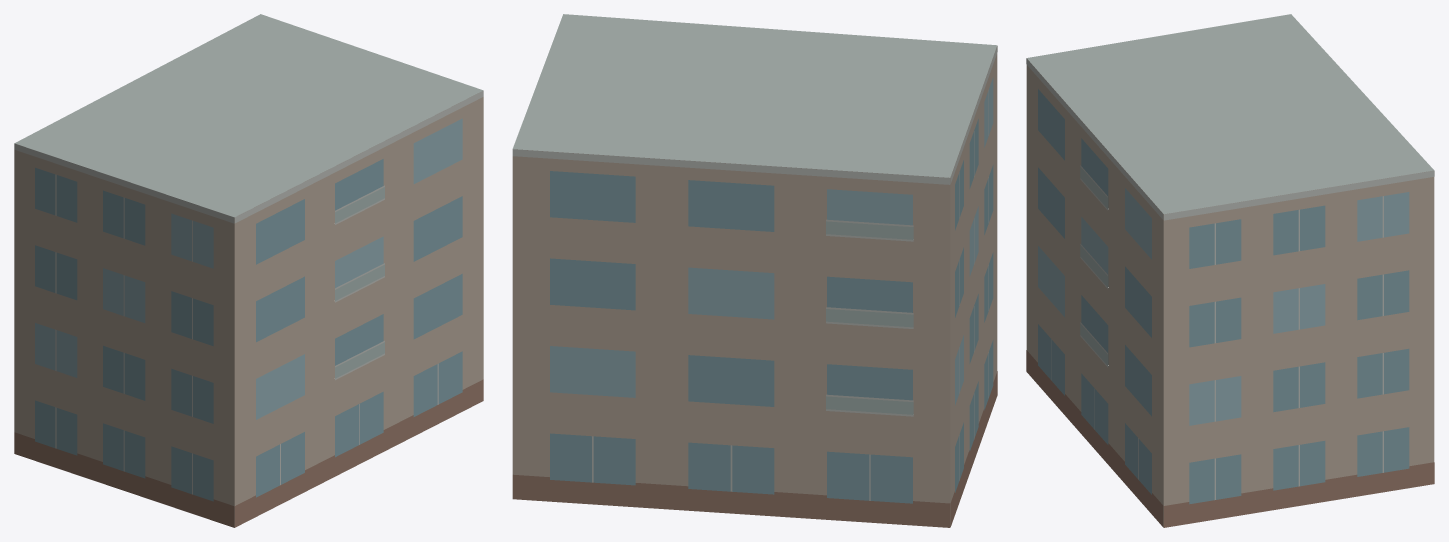
File: survey-upis-32858638.glb
The picture shows the model from 3 angles, left to right: view 1: azimuth 30°, elevation 25°; view 2: azimuth 150°, elevation 25°; view 3: azimuth 270°, elevation 25°; orthographic projection. The views are drawn at different scales.
Parts seen in each view (by area): view 1: survey-upis-32858638.tmp; view 2: survey-upis-32858638.tmp; view 3: survey-upis-32858638.tmp.
Part boxes in pixels (x1=…): survey-upis-32858638.tmp: x1=14, y1=14, x2=483, y2=527; survey-upis-32858638.tmp: x1=512, y1=14, x2=997, y2=527; survey-upis-32858638.tmp: x1=1026, y1=14, x2=1434, y2=527.
Size of the model in its own units: 16.59 by 12.1 by 14.28.
